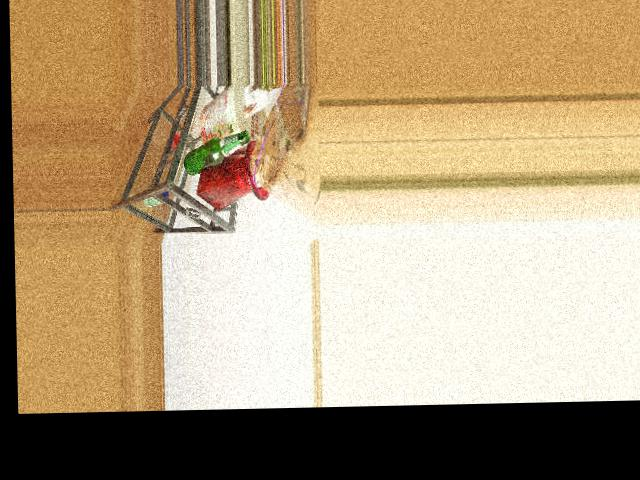beer: (182, 130, 250, 175)
